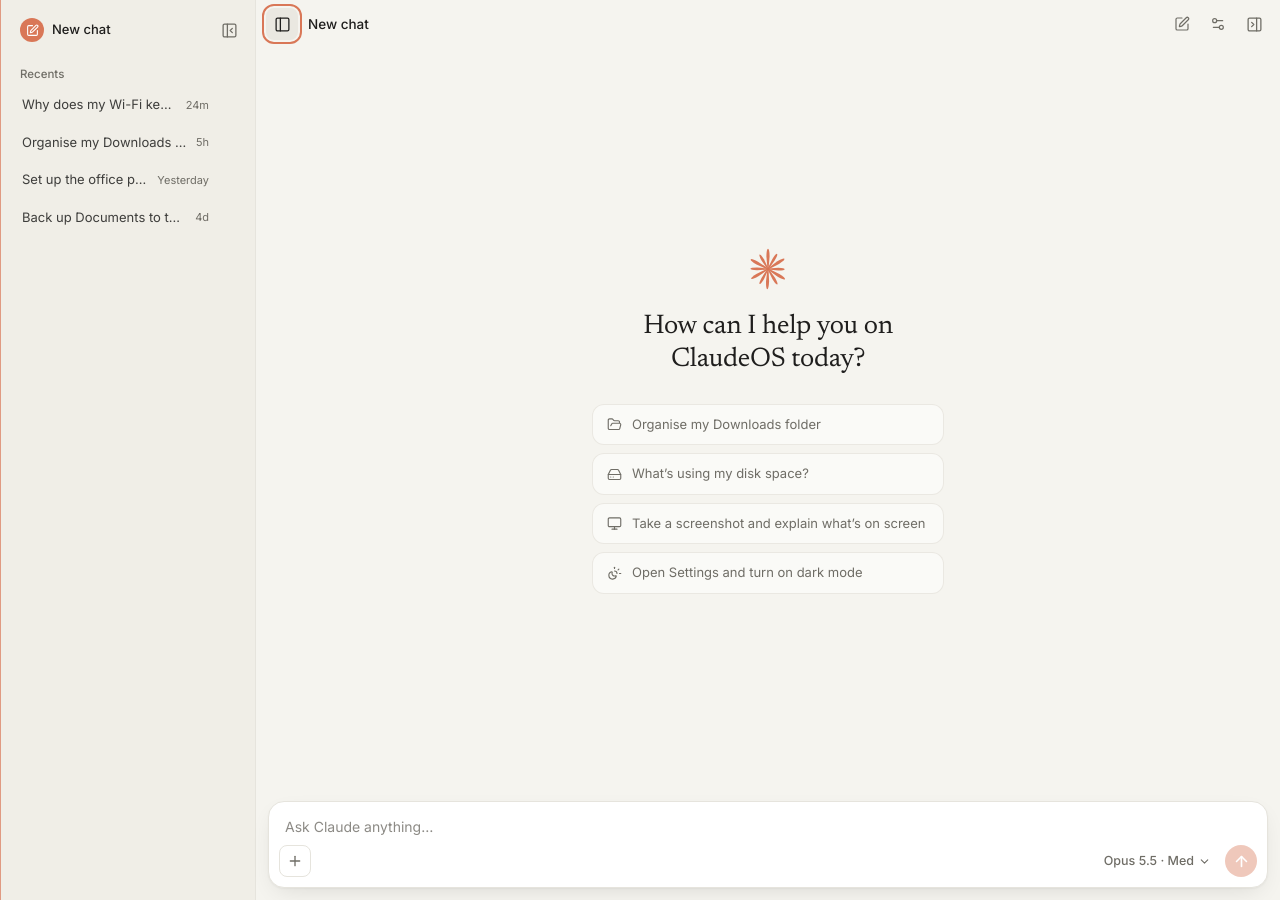
Test: App (panel) › history drawer: persisted open state, select, delete with confirm, new chat
Earlier steps of the test are not shown.
Later steps or results of the test are not shown.
Click the text "Set up the office printer".
click(86, 180)  # box [22,170,149,190]
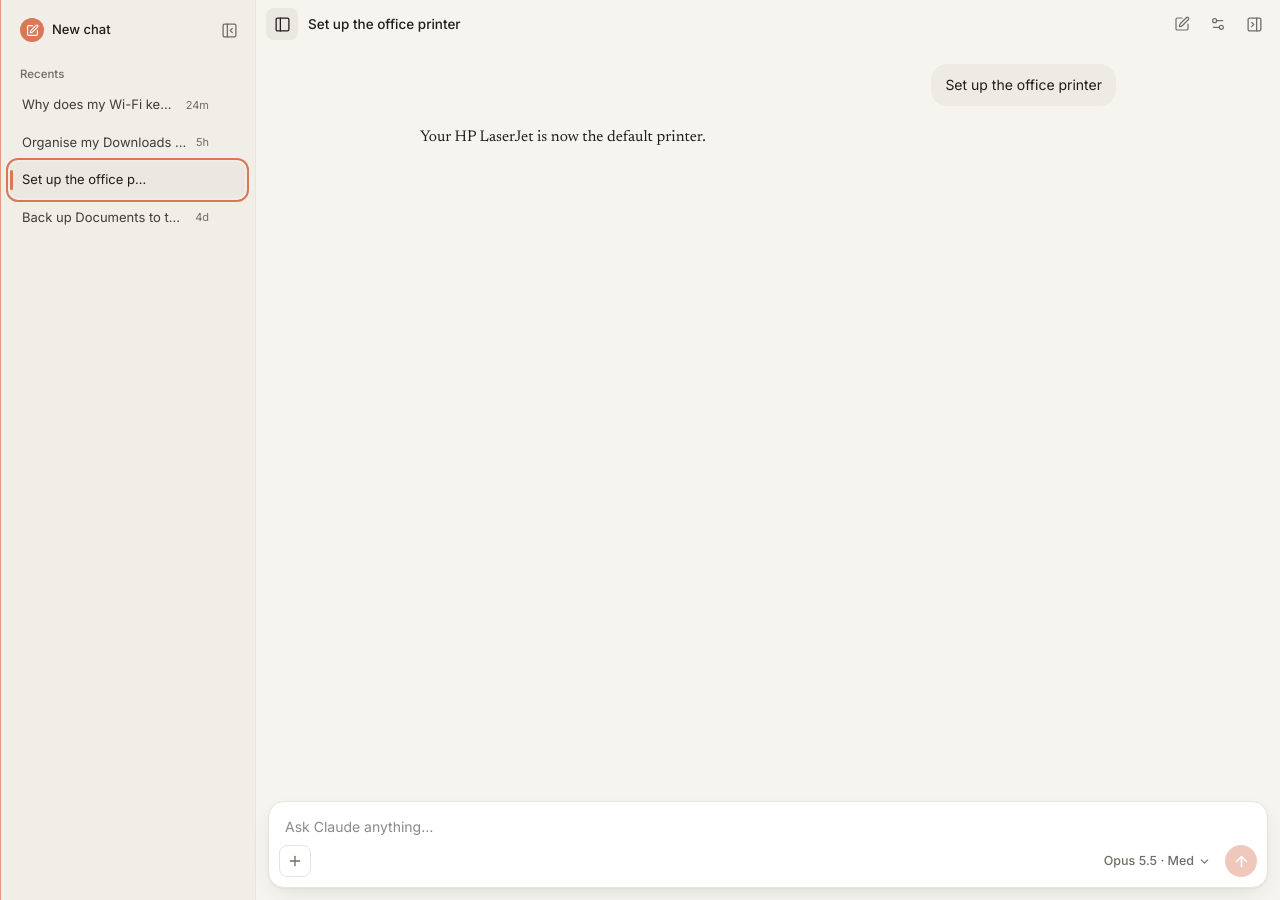
expect the text "Your HP LaserJet is now the default printer." is shown: met, box [420,130,706,145]
